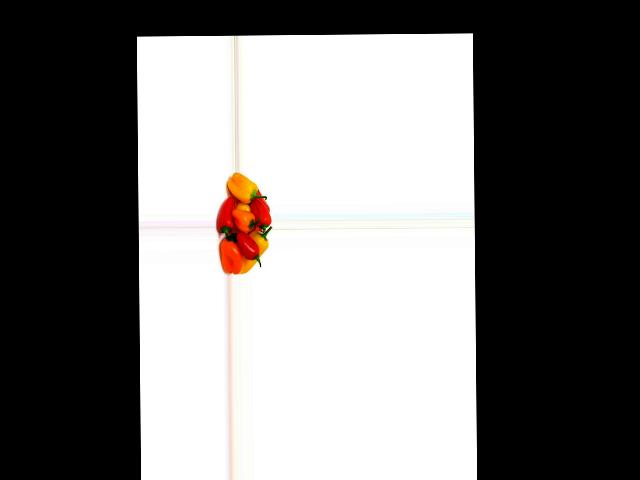bell_pepper: (240, 230, 271, 273)
